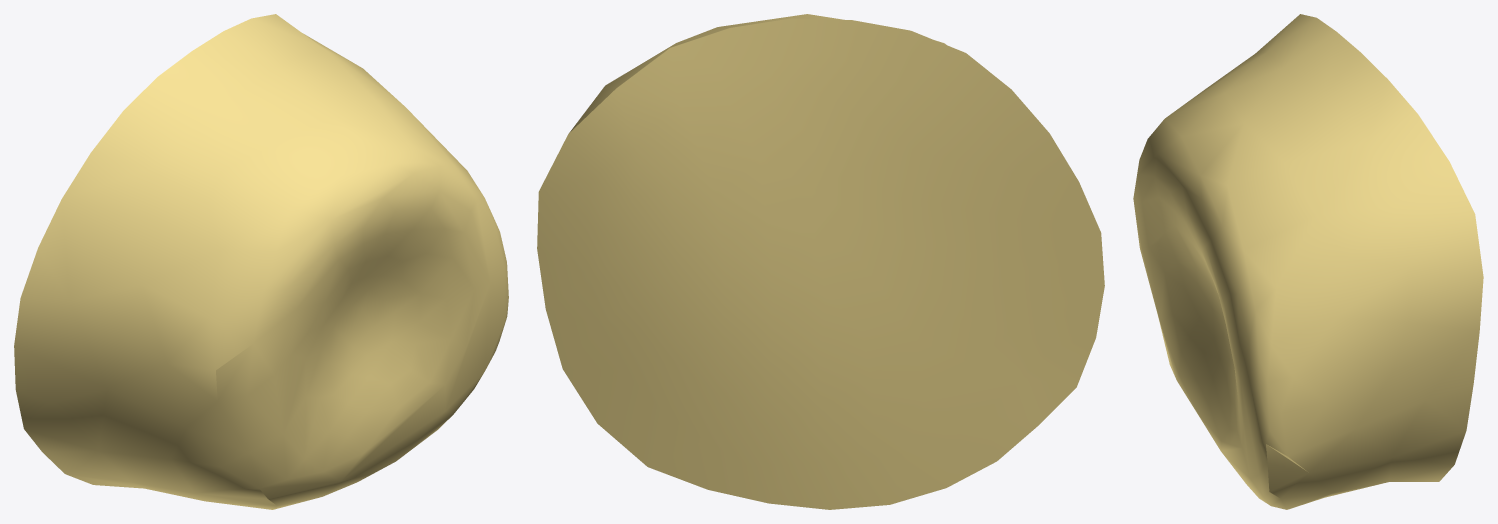
Rendered from fma58730_mm2243.glb.
3 renders of one model, left to right at view 1: azimuth 30°, elevation 25°; view 2: azimuth 150°, elevation 25°; view 3: azimuth 270°, elevation 25°, orthographic. The views are drawn at different scales.
Parts seen in each view (by area): view 1: FMA58730_MM2243; view 2: FMA58730_MM2243; view 3: FMA58730_MM2243.
Part boxes in pixels (x1,y1,x2,y2): FMA58730_MM2243: (14, 14, 508, 509); FMA58730_MM2243: (537, 14, 1104, 509); FMA58730_MM2243: (1133, 14, 1483, 509).
Size of the model in its own units: 0.00299 by 0.00259 by 0.00199.
